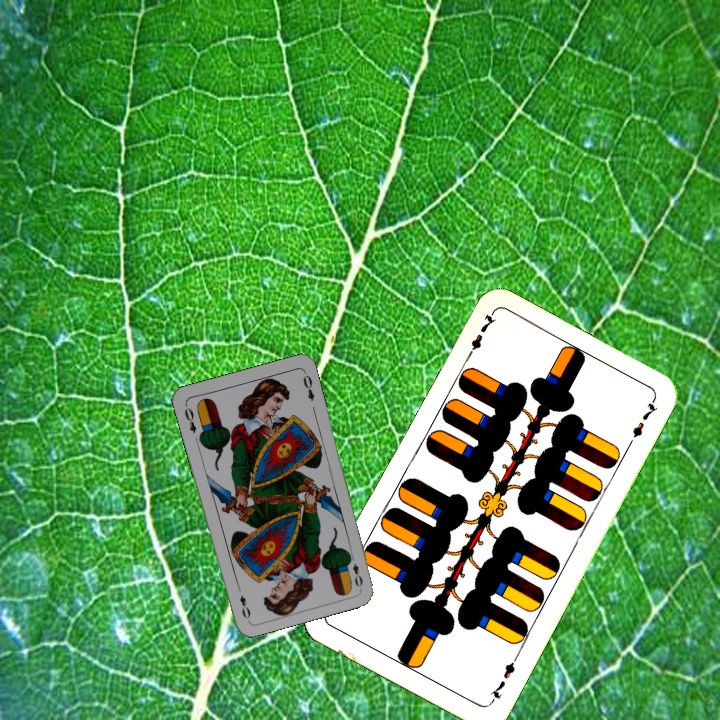E7: (461, 309, 499, 363), (485, 652, 521, 706)
EO: (345, 550, 365, 590), (180, 401, 199, 436)
